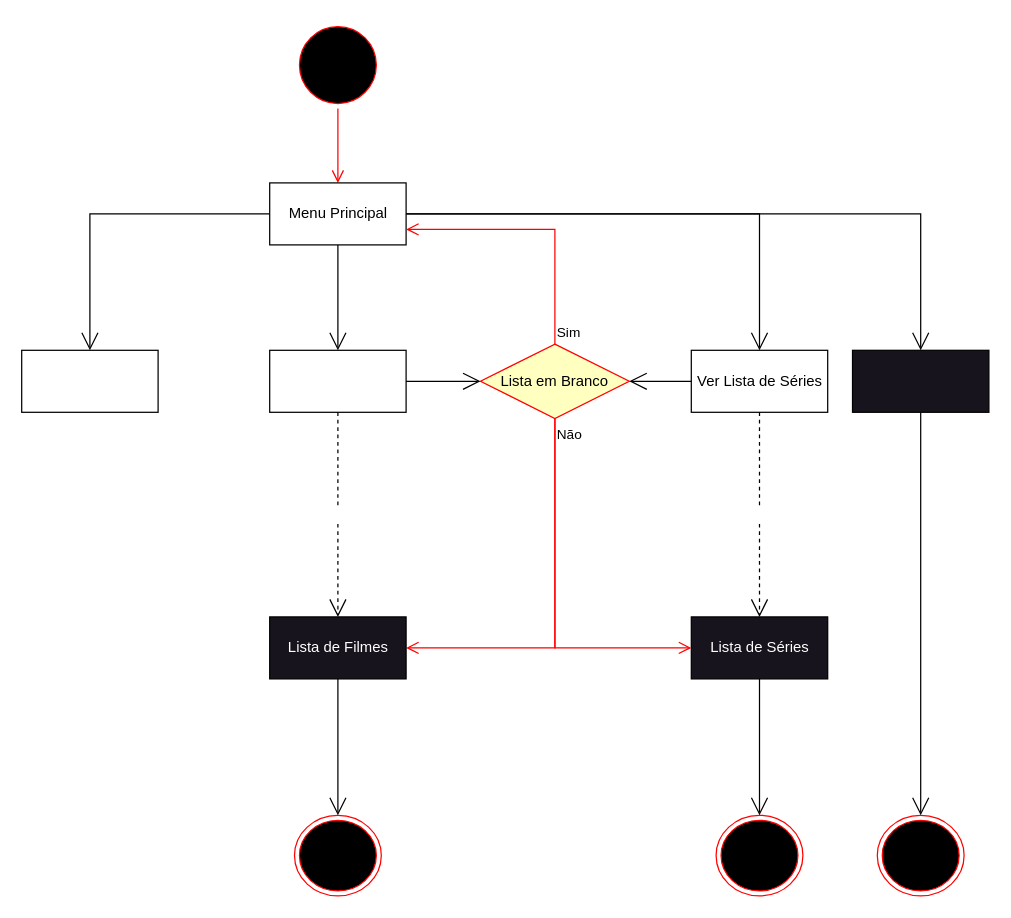
Image size: 1011x918. Some labels were removed from this diagram. Here are the shapes that lost their labels. From the top down, the centre of each, then its label:
At pixel 89 380: "Adicionar novo".
At pixel 337 380: "Ver Lista de Filmes".
At pixel 920 380: "Sair".
